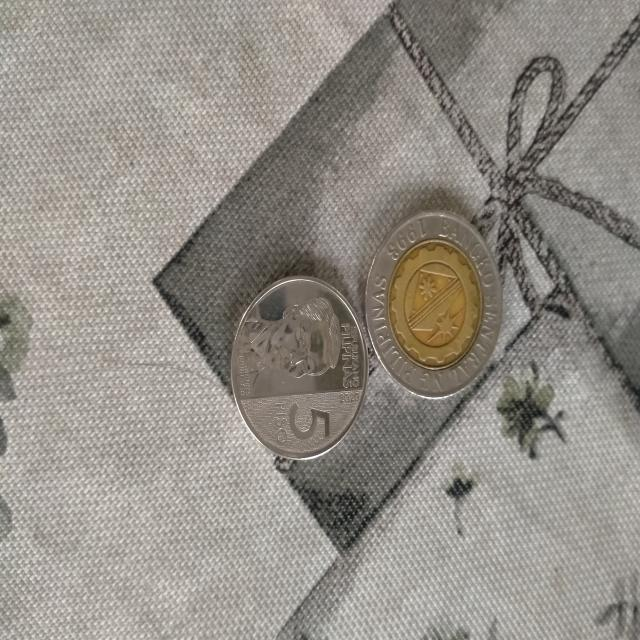10_Old_Back: (364, 208, 504, 399)
5_New_Front: (268, 386, 334, 455)
